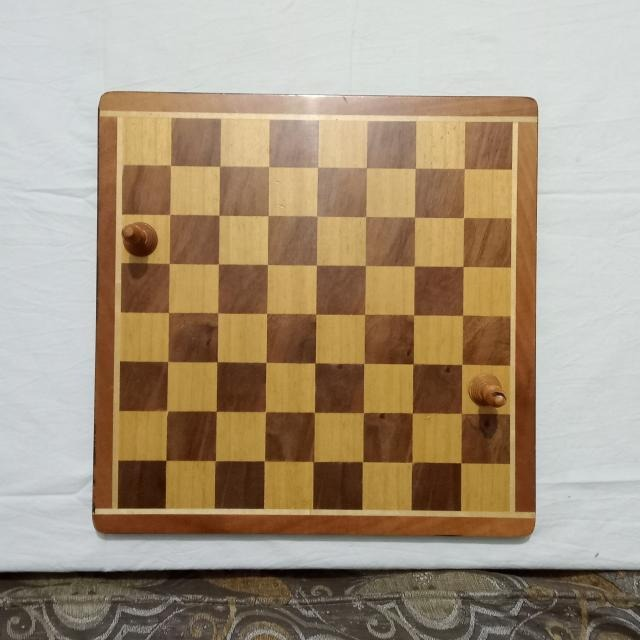white-bishop: (467, 373, 508, 411), (118, 220, 157, 259)
